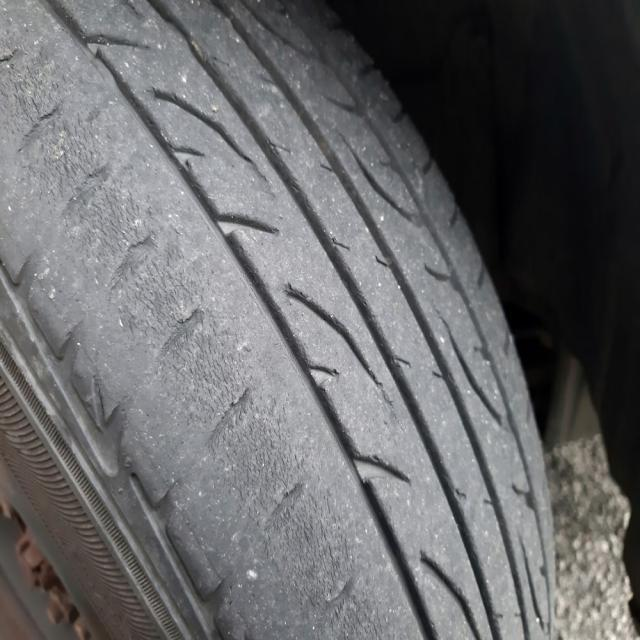Flat spots: (193, 440, 366, 640), (0, 4, 86, 326), (93, 131, 174, 445)
Non-defective: (420, 273, 532, 640), (289, 91, 412, 397), (175, 0, 279, 128)
